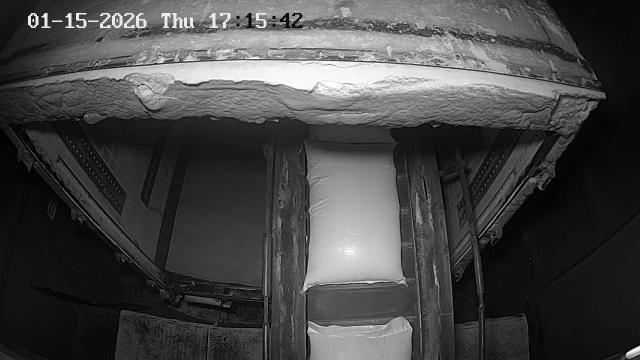bag: (303, 139, 408, 294), (308, 316, 413, 360), (309, 128, 394, 142)
